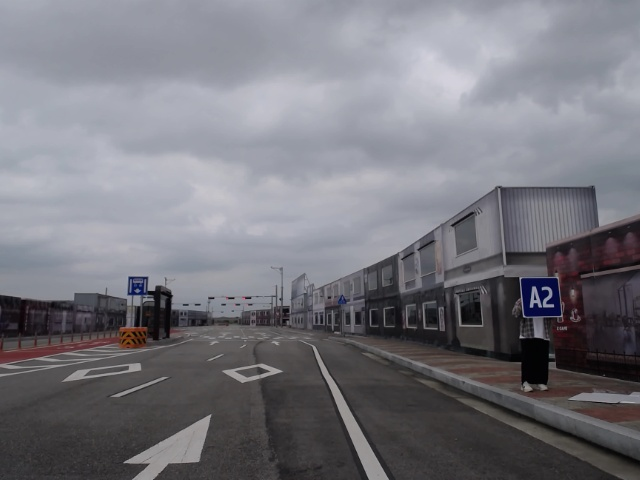delivery_a2: (520, 277, 563, 317)
